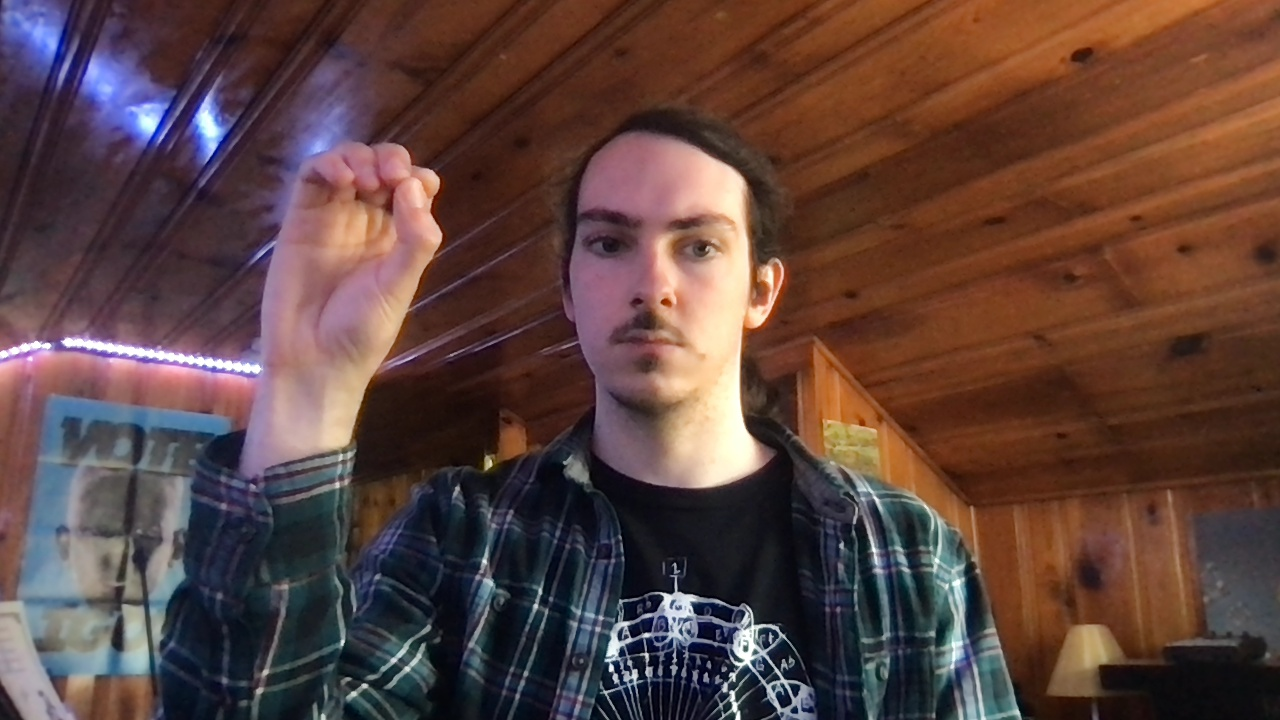o: (256, 136, 445, 373)
